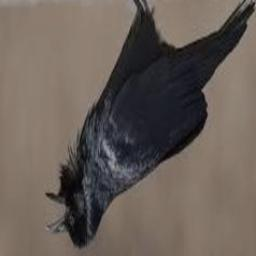Crow: (44, 0, 255, 250)
